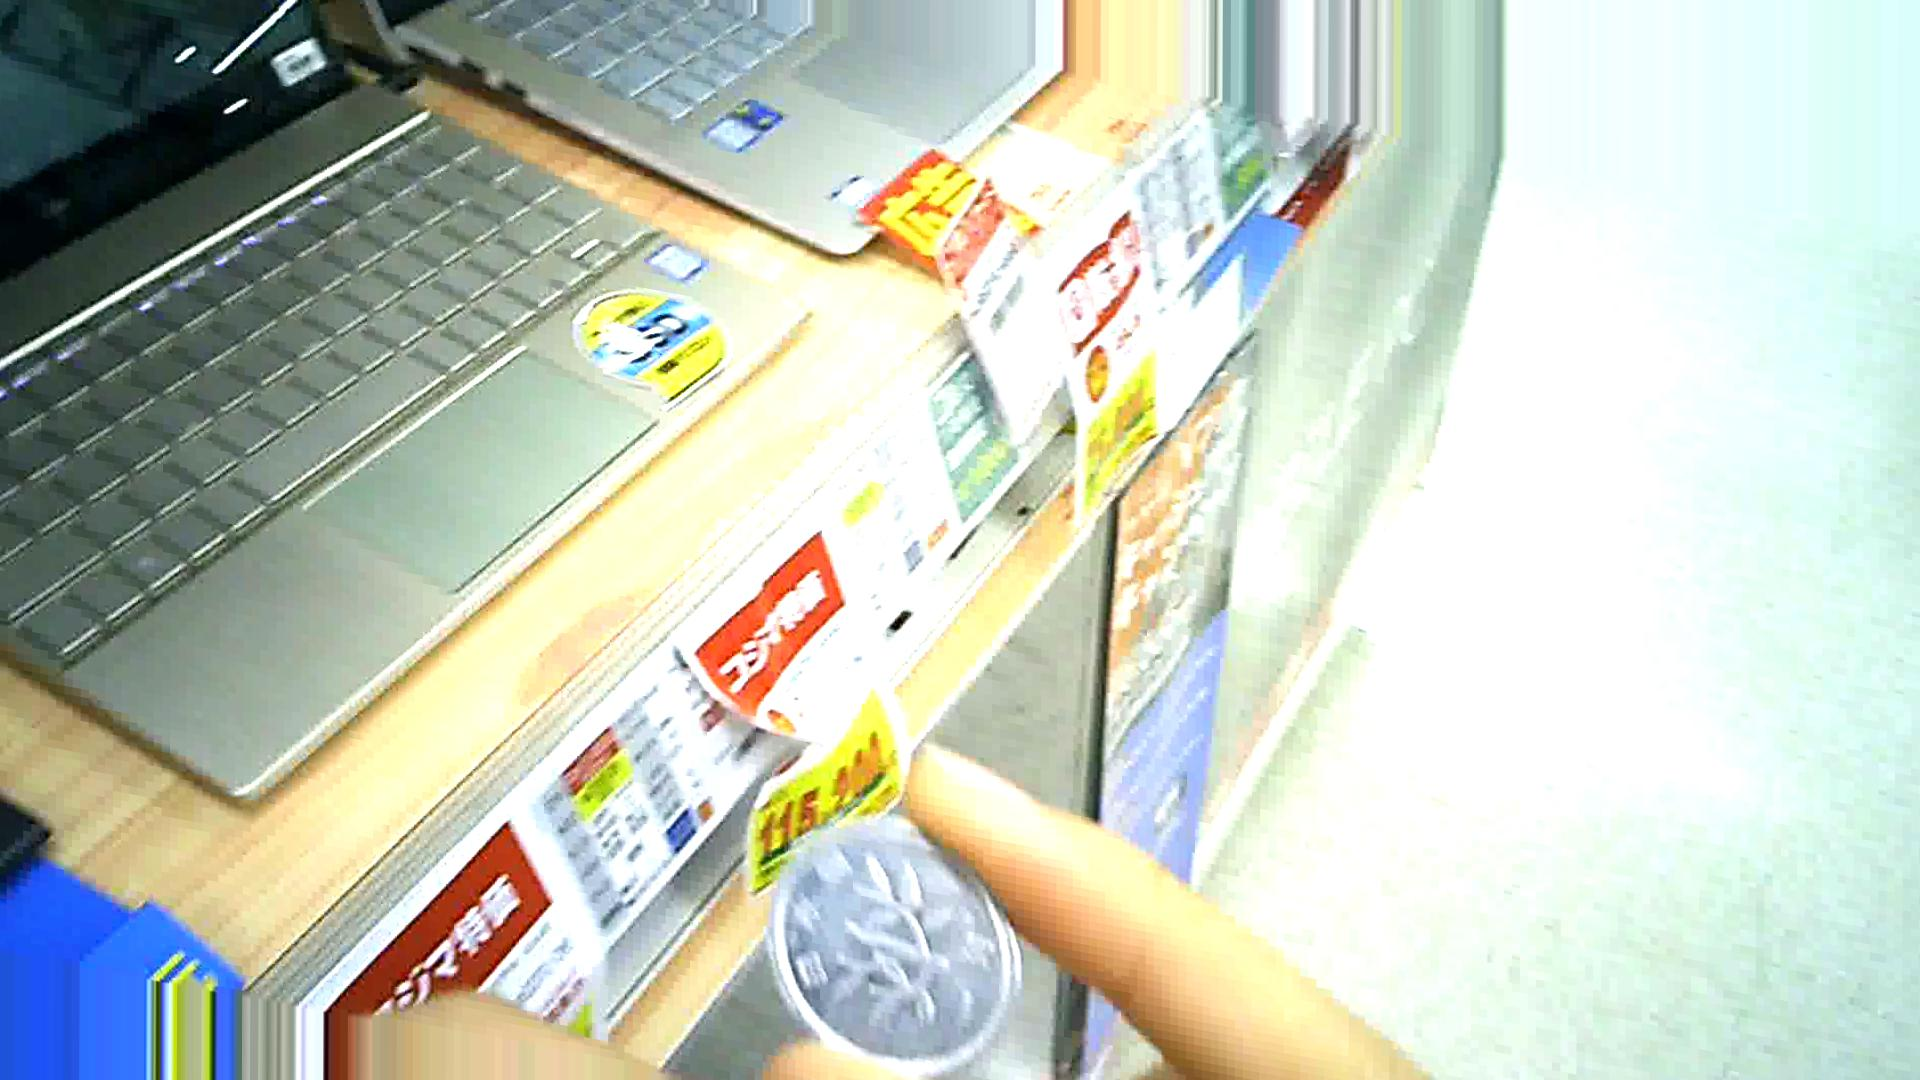1 Yen: (760, 800, 1040, 1077)
